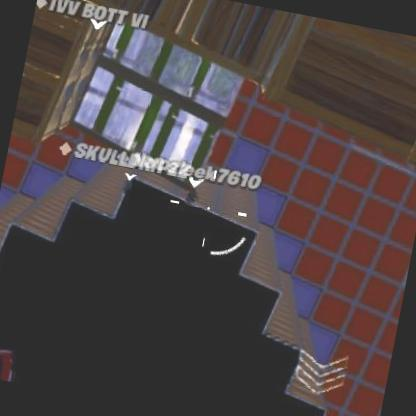person: (180, 186, 199, 205), (123, 178, 140, 196)
